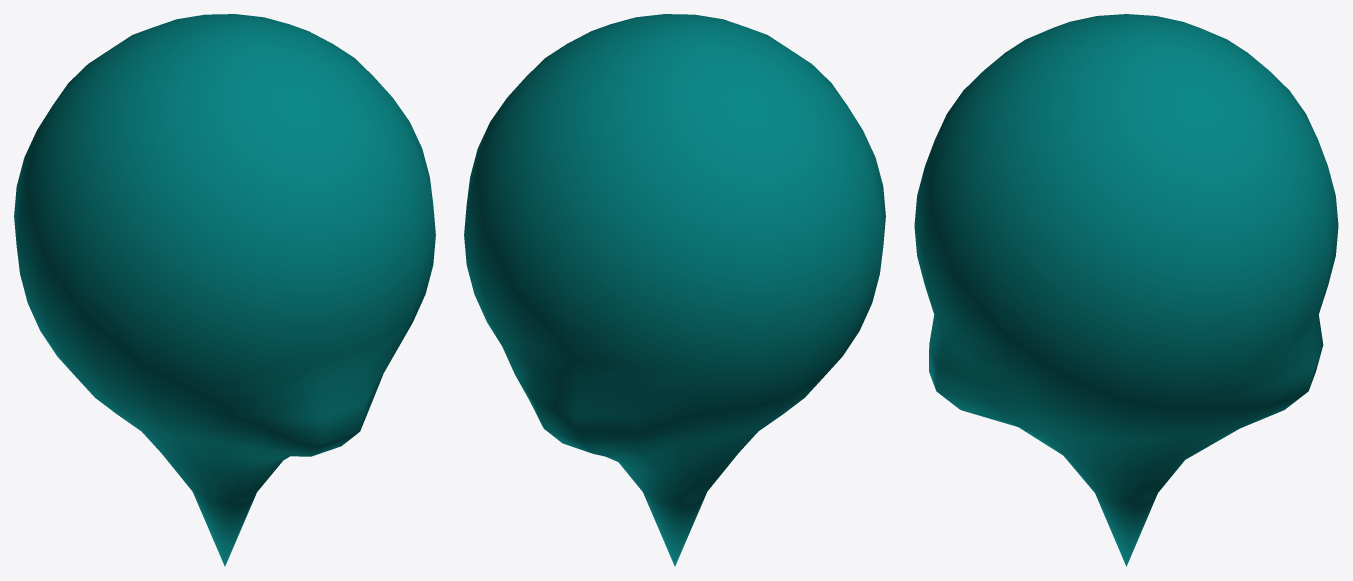
Rendered from Ghostie1.fbx.
The picture shows the model from 3 angles, left to right: view 1: azimuth 30°, elevation 25°; view 2: azimuth 150°, elevation 25°; view 3: azimuth 270°, elevation 25°; orthographic projection.
Visible parts, largest first — view 1: shell; view 2: shell; view 3: shell.
Part boxes in pixels (bbox=[...]): shell: bbox=[14, 14, 435, 566]; shell: bbox=[464, 14, 885, 566]; shell: bbox=[914, 14, 1338, 566].
Size of the model in its own units: 3.05 by 4.23 by 3.05.
